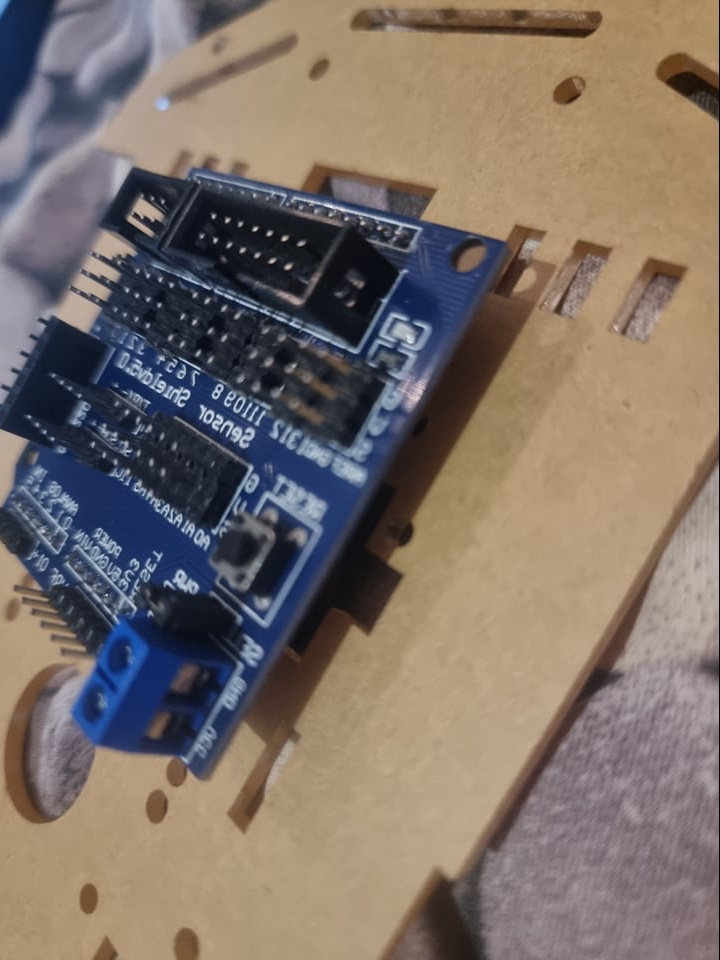5V EXPANSION: (1, 160, 513, 782)
